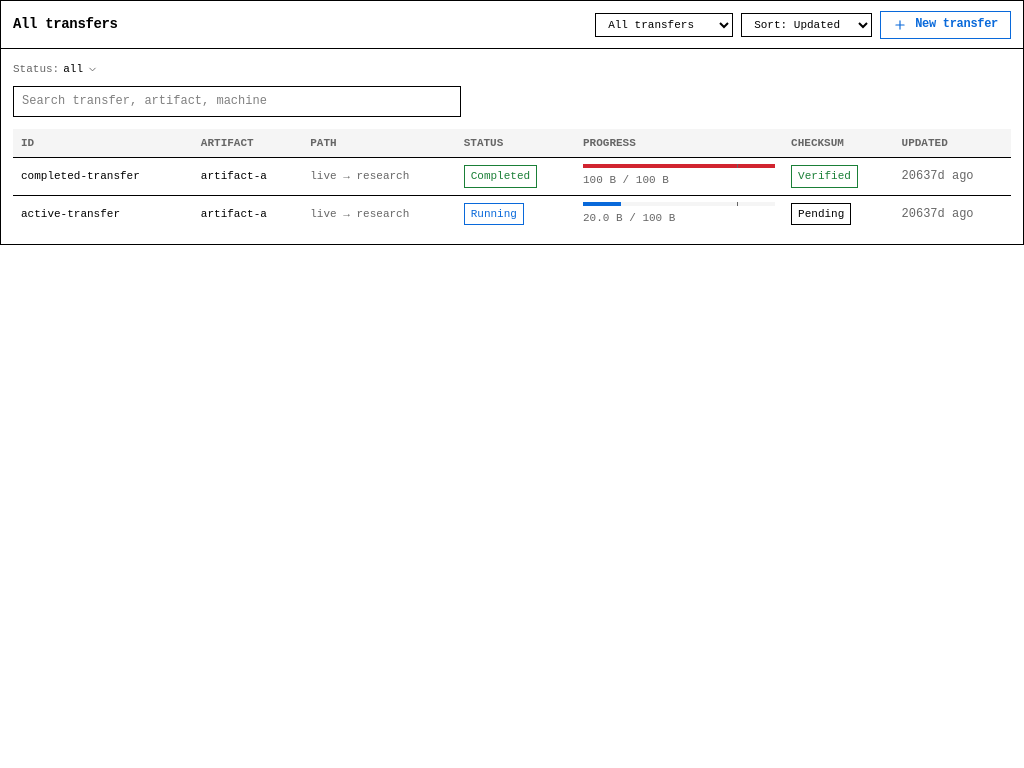
Test: ResearchTransfersPage › only offers available artifacts in the transfer dialog
The image size is (1024, 768).
Click the button "New transfer": {"x": 946, "y": 24} [880,10,1011,38]
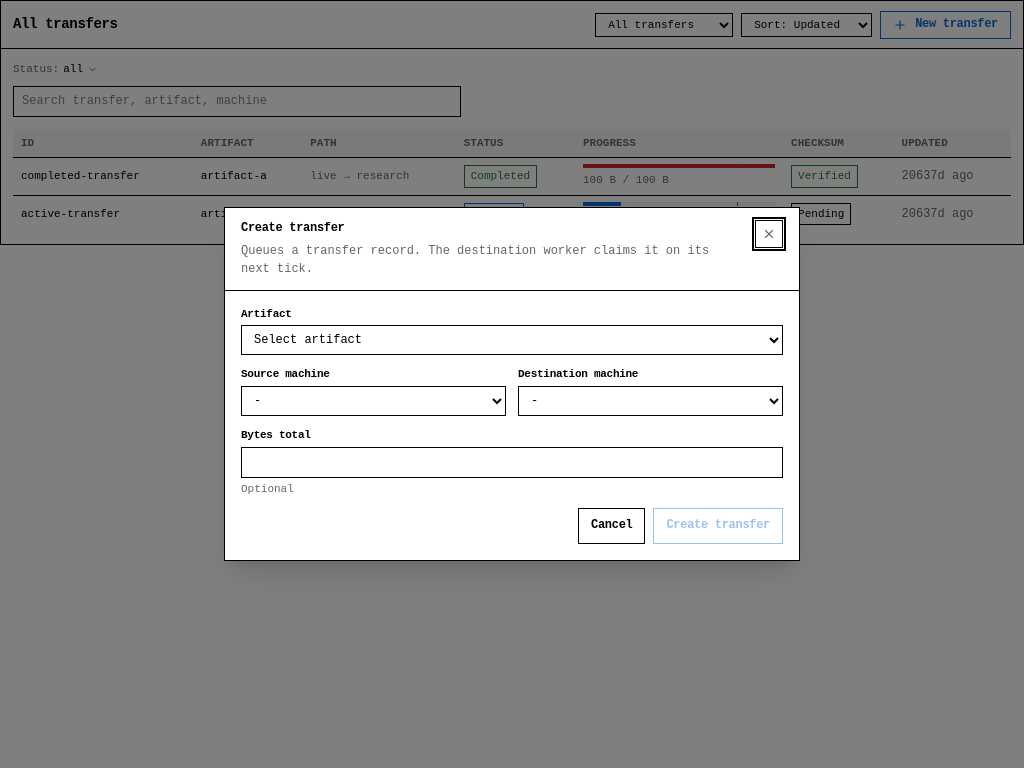
Now the dialog is shown, box [224,208,800,560]
